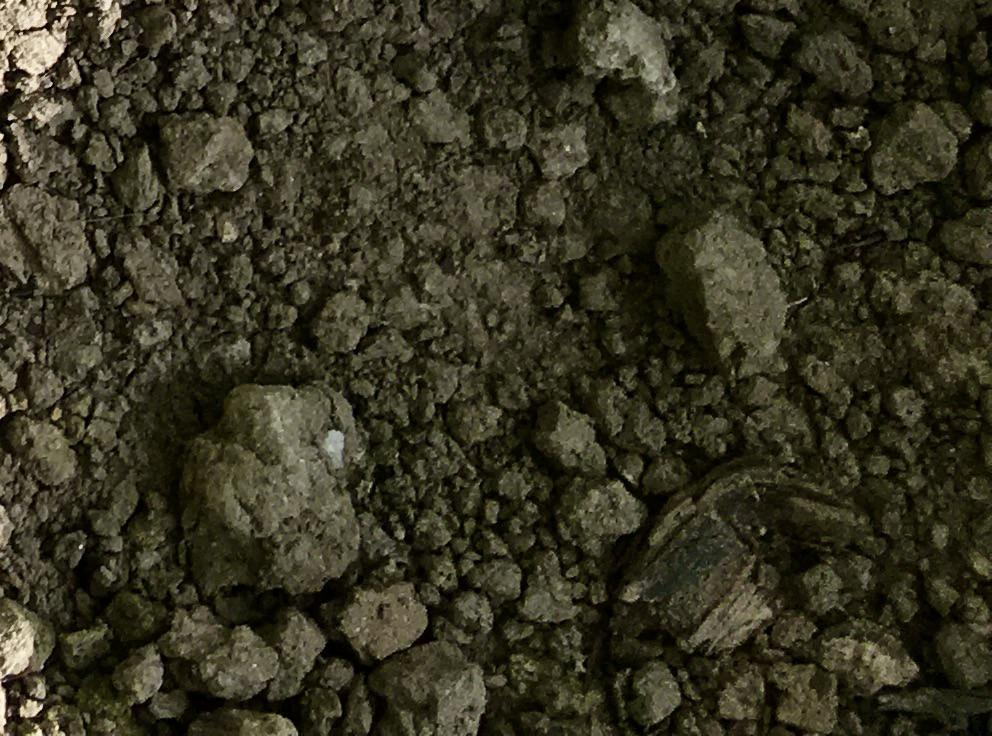block: (182, 380, 361, 597), (665, 199, 789, 377)
